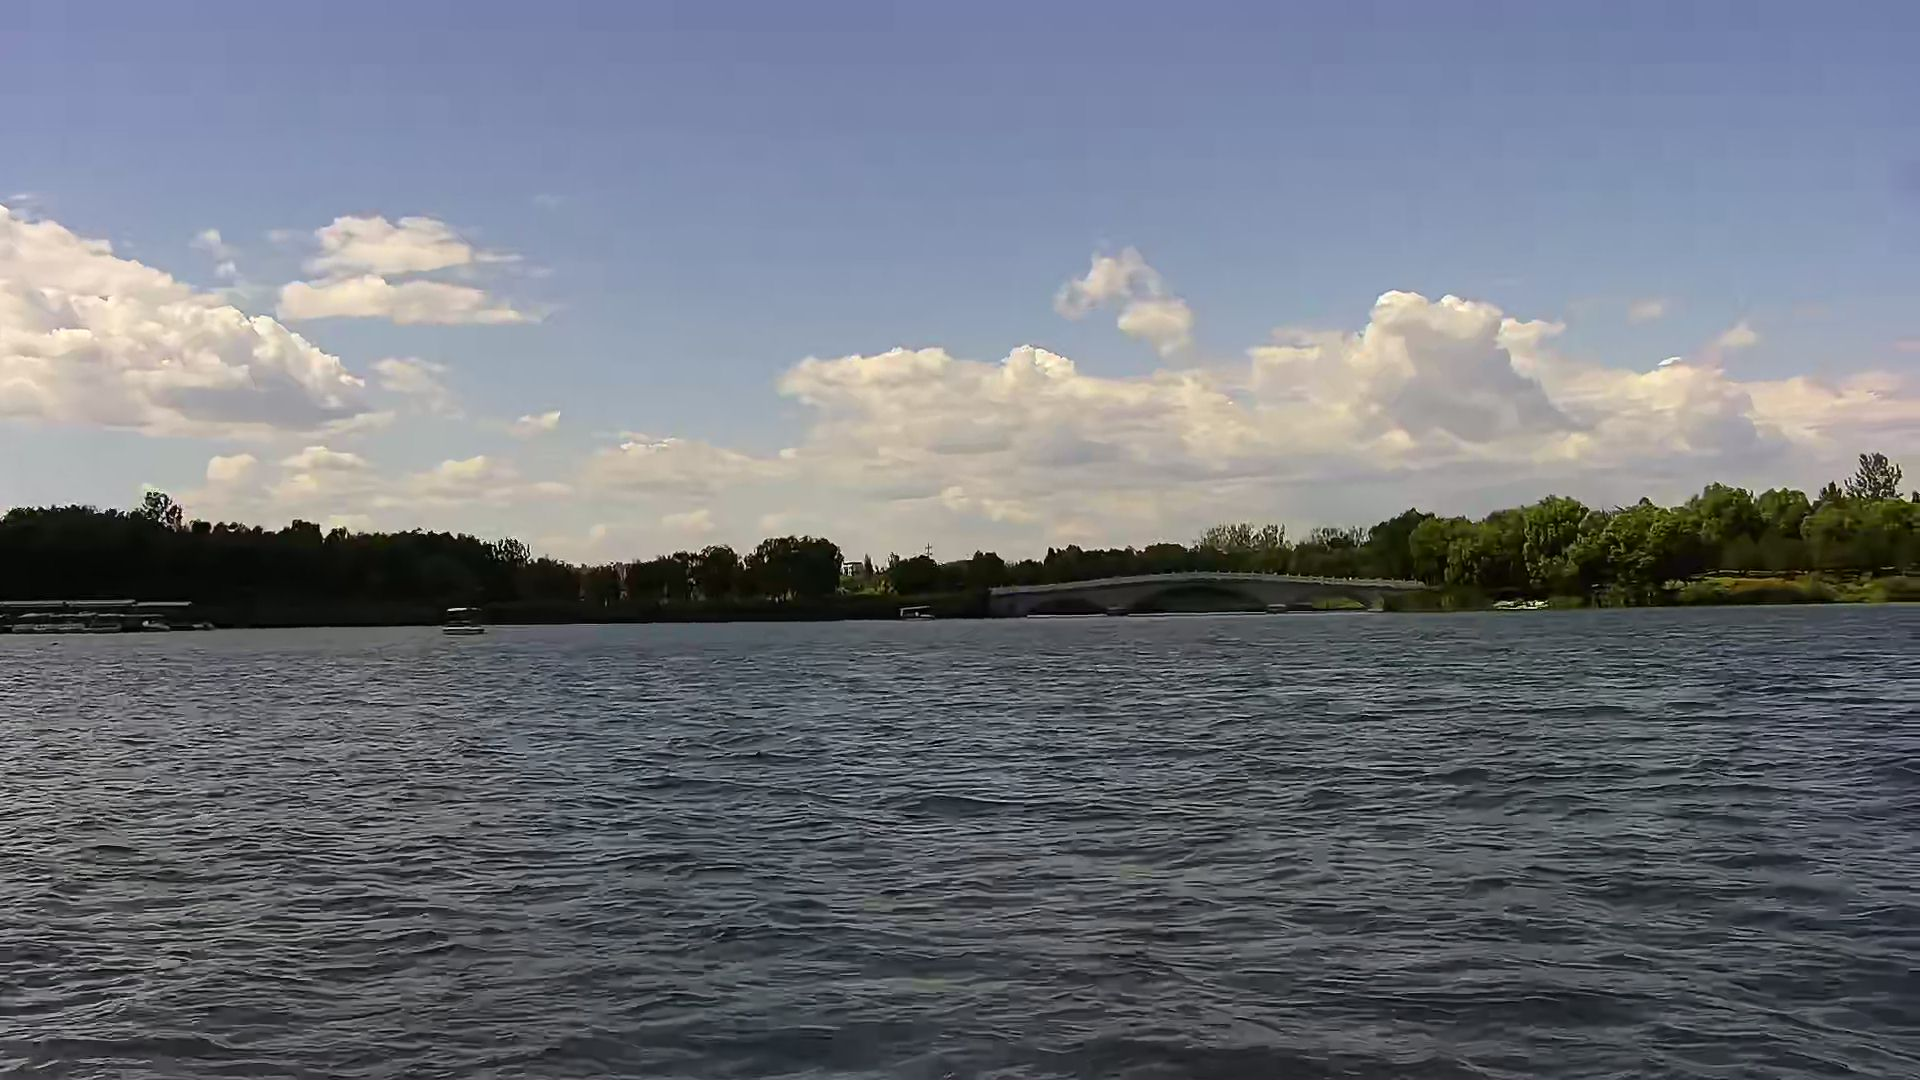boat: (438, 600, 492, 645)
bridge: (992, 568, 1422, 620)
harbor: (1, 591, 214, 640)
